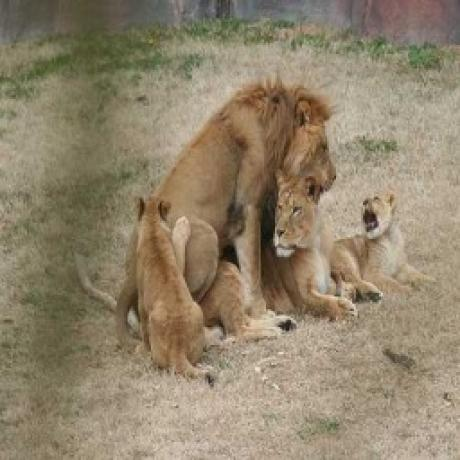Lion: (117, 79, 336, 310), (132, 186, 226, 383), (262, 166, 360, 324), (332, 189, 414, 303)
